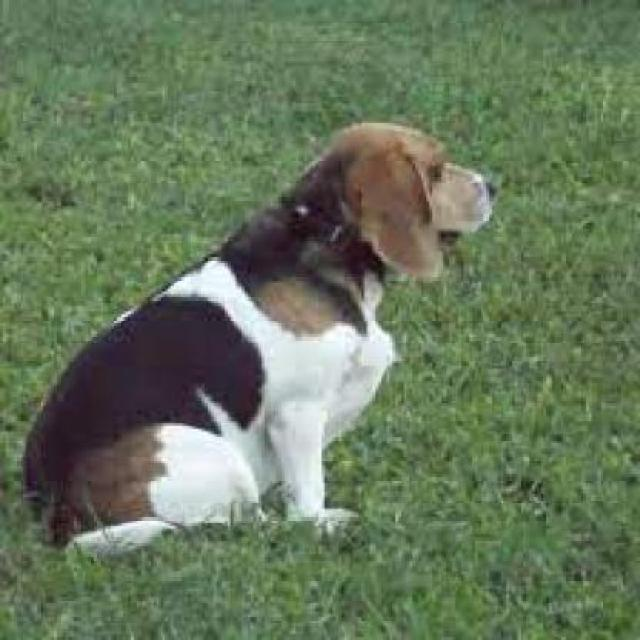Dog: (23, 118, 502, 564)
